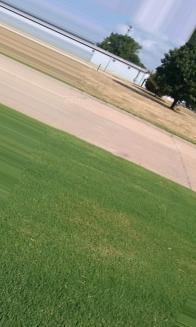patch: (141, 95, 170, 126), (11, 37, 42, 59), (55, 54, 79, 78), (99, 76, 121, 101), (186, 114, 196, 130)
